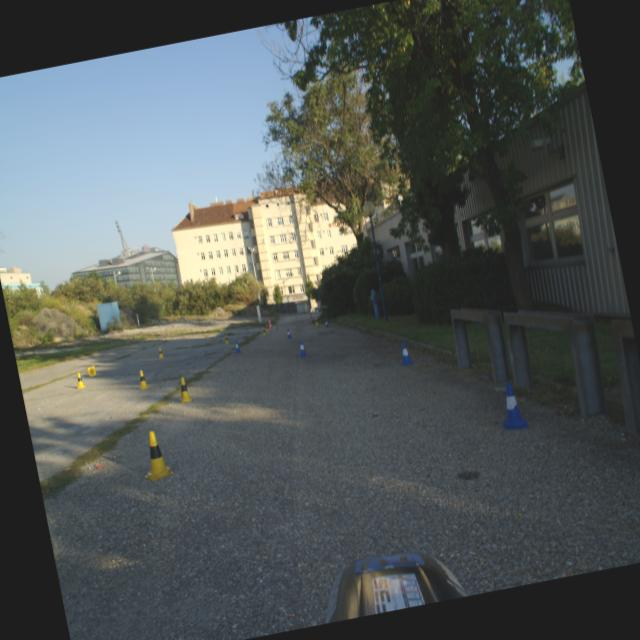blue_cone: (495, 380, 529, 432), (396, 342, 414, 366), (296, 338, 309, 358), (232, 340, 242, 354), (285, 328, 293, 340), (324, 320, 330, 328)
large_orange_cone: (309, 312, 315, 324), (267, 318, 273, 330)
yellow_cone: (137, 428, 175, 482), (175, 375, 193, 403), (136, 368, 150, 391), (74, 372, 86, 389), (157, 347, 165, 359), (88, 366, 96, 378), (223, 334, 230, 345), (261, 326, 267, 336), (314, 317, 320, 326), (264, 323, 270, 332)
